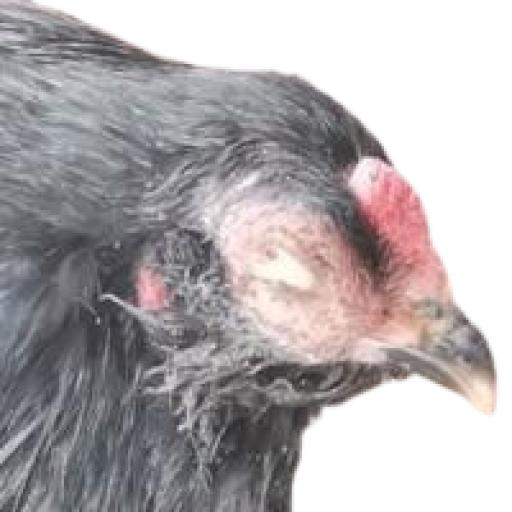disease: (206, 193, 362, 358)
